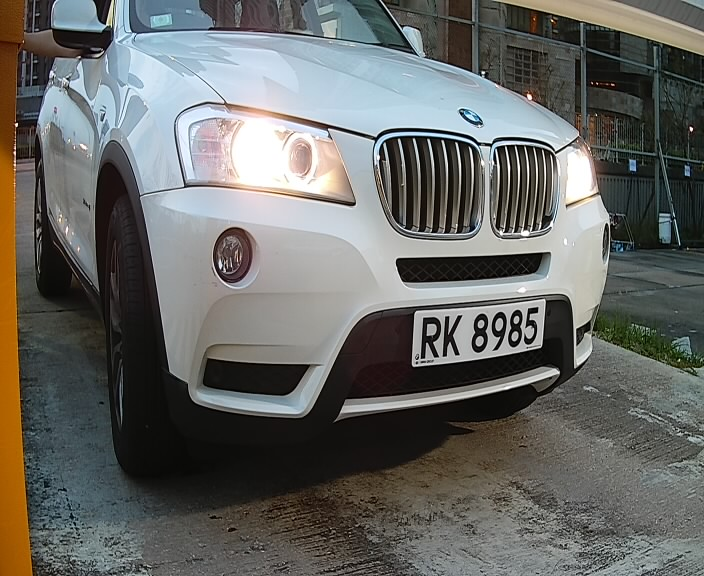Car: (33, 1, 640, 482)
License Plate: (406, 290, 550, 376)
